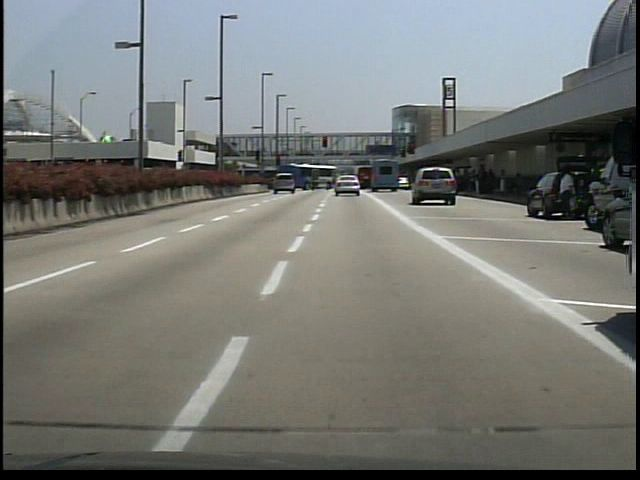person: (555, 169, 577, 221)
